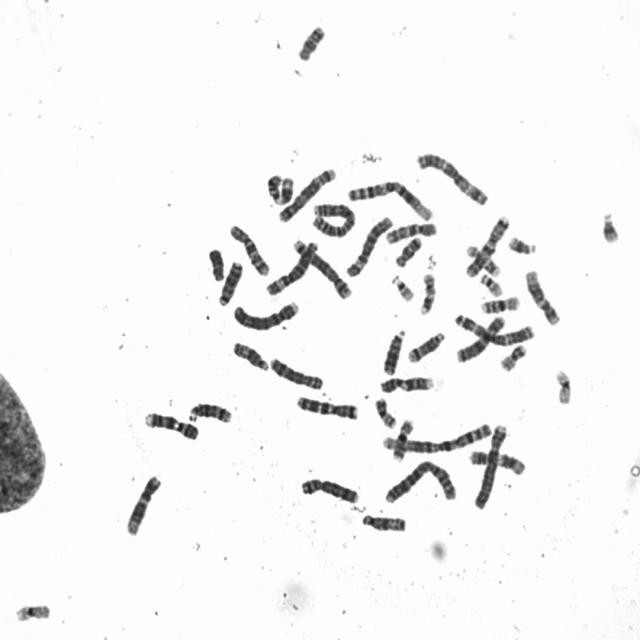A1: (382, 417, 494, 456), (344, 175, 436, 222)
A2: (381, 455, 459, 506), (308, 198, 357, 238)
A3: (413, 146, 491, 206), (451, 308, 537, 347)
B4: (470, 420, 510, 510), (230, 295, 302, 332)
B5: (288, 234, 354, 300), (276, 162, 338, 224)
C10: (226, 220, 272, 278), (382, 216, 439, 246)
C11: (464, 445, 528, 477), (264, 169, 296, 207)
C12: (122, 470, 163, 537), (522, 264, 563, 326)
C6: (343, 211, 395, 279), (263, 236, 321, 296)
C7: (463, 211, 512, 279), (292, 390, 360, 420)
C8: (266, 352, 326, 391), (297, 473, 362, 504)
C9: (141, 406, 201, 442), (377, 371, 436, 394)
D13: (214, 256, 245, 307), (379, 324, 408, 376)
D14: (404, 327, 448, 364), (185, 398, 234, 424)
D15: (229, 337, 271, 372), (358, 509, 408, 534)
E16: (390, 415, 416, 462), (477, 290, 523, 315)
E17: (462, 240, 503, 277), (417, 268, 439, 316)
E18: (294, 20, 328, 62), (392, 232, 424, 268)
F19: (12, 598, 54, 623), (551, 364, 575, 406)
F20: (496, 339, 529, 373), (372, 393, 399, 429)
G21: (504, 230, 540, 256), (598, 206, 622, 245)
G22: (388, 270, 417, 303), (476, 269, 506, 297)
X: (453, 310, 508, 364), (297, 473, 362, 504)
Y: (205, 244, 227, 282)
